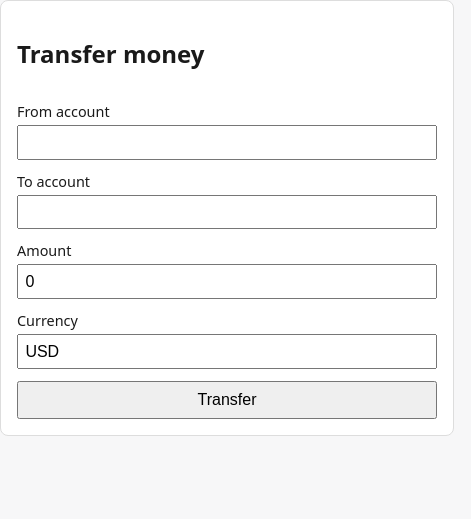
Scenario: TransferForm › shows the backend error message when the transfer fails
This screenshot has width=471, height=519.
Type "account-a" into the field labelled "From account" at (227, 142), box [17, 125, 437, 160]
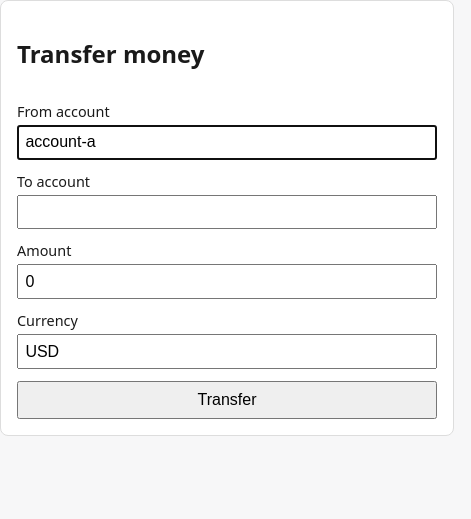
Type "account-b" into the field labelled "To account" at (227, 212), box [17, 195, 437, 229]
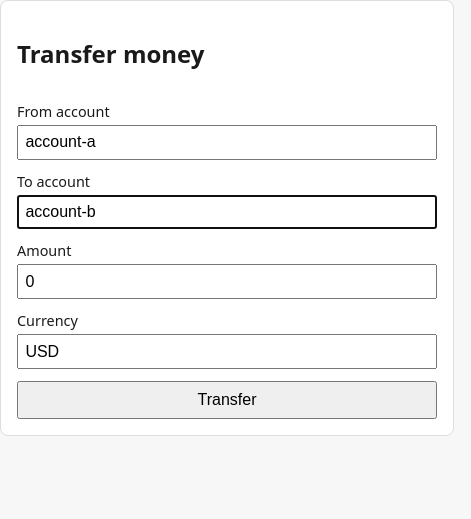
Click the button "Transfer" at (227, 400), box [17, 381, 437, 419]
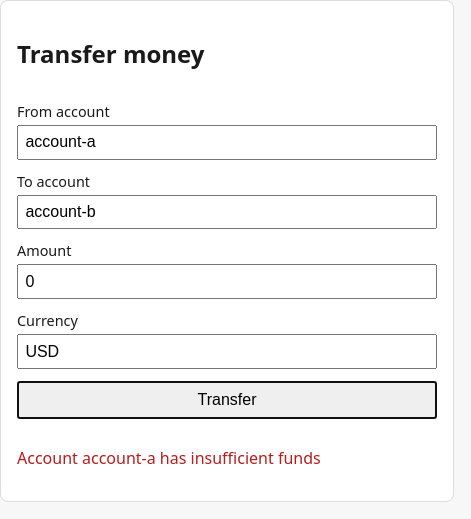
expect the text "Account account-a has insufficient funds" is shown: met, box [17, 447, 321, 469]
